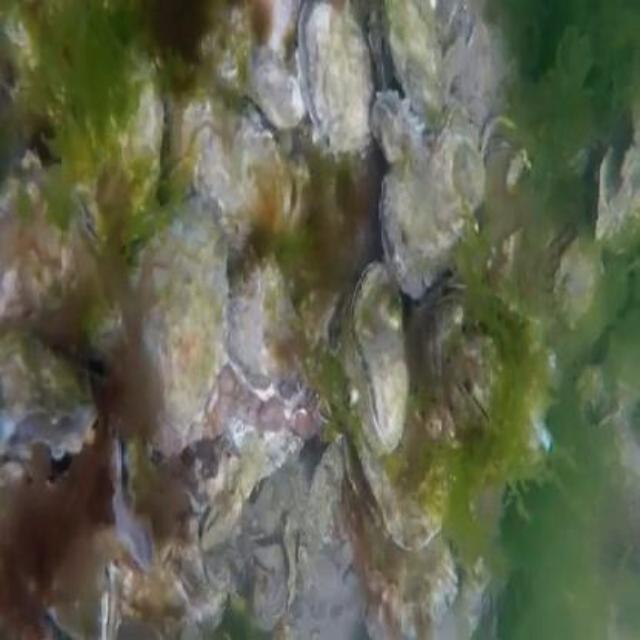Oyster-Closed: (160, 76, 305, 264), (131, 204, 228, 453), (378, 123, 488, 301), (349, 484, 458, 636), (348, 259, 410, 455), (46, 534, 119, 638), (381, 0, 444, 116), (553, 233, 601, 328), (372, 87, 424, 164), (251, 65, 303, 129)
Oyster-Open: (340, 343, 454, 547), (0, 330, 97, 459), (297, 0, 373, 159), (225, 253, 301, 398), (593, 93, 638, 251), (110, 419, 154, 571)
